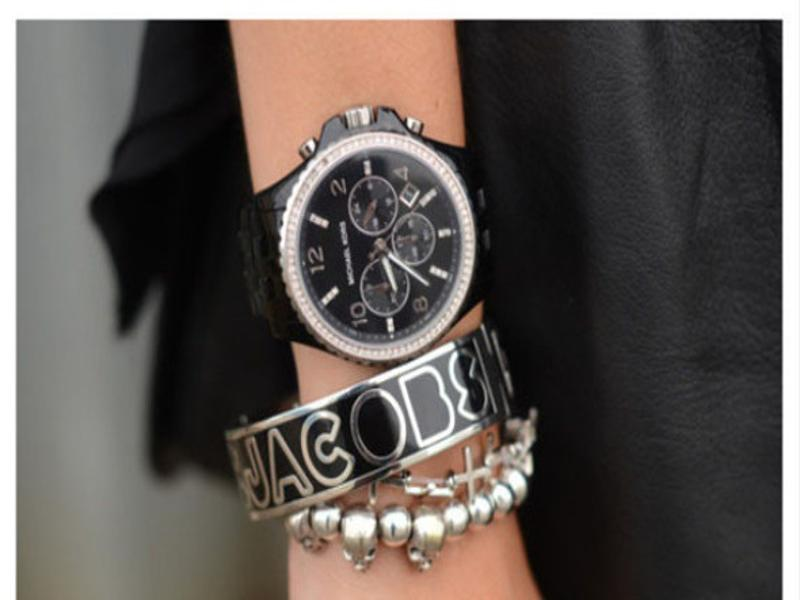watch: (233, 108, 516, 366)
